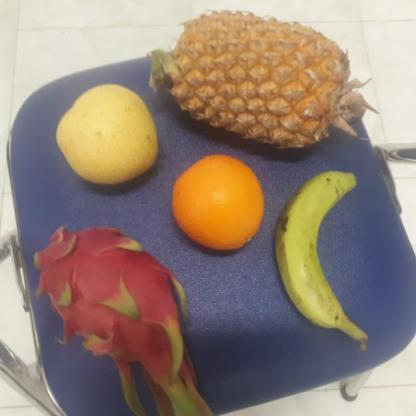banana: (272, 172, 362, 330)
guava: (53, 86, 158, 186), (167, 156, 267, 254)
pineapple: (154, 13, 358, 154)
pitaya: (32, 225, 193, 370)
